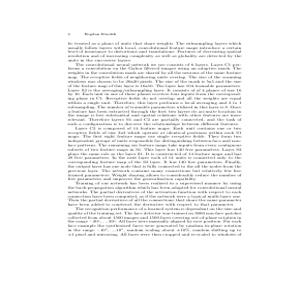text: (68, 30, 243, 238)
